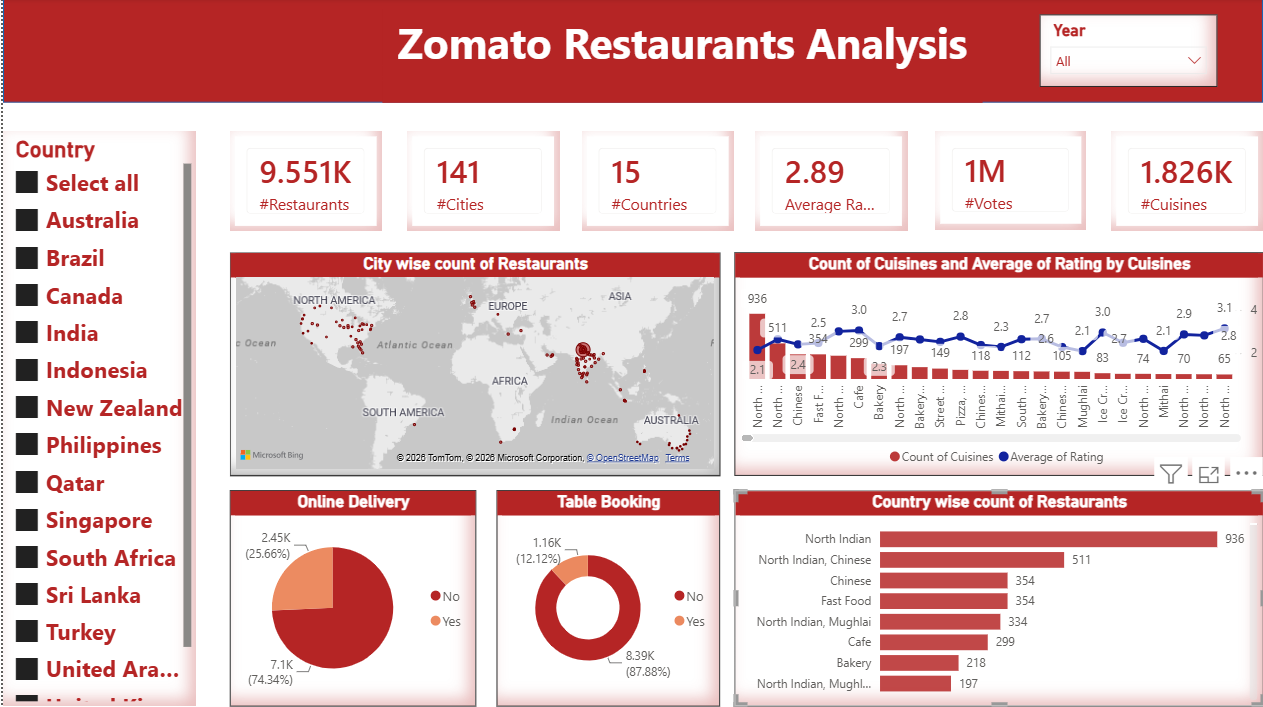

What the dashboard file says about the page in this screenshot:
{"tool":"powerbi","page":{"name":"Page 1","canvas":[1280,720],"ordinal":0},"visuals":[{"type":"shape","box":[0,0,1279.7,106.4],"z":0},{"type":"textbox","box":[385.2,11.3,609.2,95.1],"z":1000},{"type":"cardVisual","fields":{"Data":["Count(Restaurants.RestaurantID)"]},"box":[231.1,135.1,154.6,101.3],"z":2000},{"type":"cardVisual","fields":{"Data":["Count(Restaurants.City)"]},"box":[410.6,135.1,154.6,101.3],"z":3000},{"type":"cardVisual","fields":{"Data":["Count(Restaurants.CountryCode)"]},"box":[588.3,135.1,154.6,101.3],"z":4000},{"type":"cardVisual","fields":{"Data":["Avg(Restaurants.Rating)"]},"box":[764.3,135.1,154.6,101.3],"z":5000},{"type":"cardVisual","fields":{"Data":["Sum(Restaurants.Votes)"]},"box":[946.4,135.7,153.6,100],"z":6000},{"type":"cardVisual","fields":{"Data":["Count(Restaurants.Cuisines)"]},"box":[1125.1,135.1,154.6,101.3],"z":7000},{"type":"slicer","fields":{"Values":["Countries.country name"]},"box":[0,135.7,196.4,583.9],"z":8000},{"type":"lineStackedColumnComboChart","fields":{"Category":["Restaurants.Cuisines"],"Y":["CountNonNull(Restaurants.Cuisines)"],"Y2":["Avg(Restaurants.Rating)"]},"box":[742.9,258.9,537.5,226.8],"z":9000},{"type":"map","title":"City wise count of Restaurants","fields":{"Category":["Restaurants.City"],"Size":["CountNonNull(Restaurants.RestaurantID)"]},"box":[230.4,258.9,498.2,226.8],"z":10000},{"type":"clusteredBarChart","title":"Country wise count of Restaurants","fields":{"Category":["Restaurants.Cuisines"],"Y":["CountNonNull(Restaurants.RestaurantID)"]},"box":[742.9,500,537.5,219.6],"z":11000},{"type":"pieChart","title":"Online Delivery","fields":{"Category":["Restaurants.Has_Online_delivery"],"Y":["CountNonNull(Restaurants.RestaurantID)"]},"box":[230.4,500,250,219.6],"z":12000},{"type":"donutChart","title":"Table Booking","fields":{"Category":["Restaurants.Has_Table_booking"],"Y":["CountNonNull(Restaurants.RestaurantID)"]},"box":[501.8,500,226.8,219.6],"z":13000},{"type":"slicer","fields":{"Values":["Restaurants.Datekey_Opening.Variation.Date Hierarchy.Year"]},"box":[1053.6,16.1,180.4,73.2],"z":13001}]}

Visuals, with their boxes in screenshot pixels (x1, y1, x2, y2), scaled from the page's 1280x720 canvas onto the 1263x707 screenshot:
shape: BBox(0, 0, 1262, 104)
textbox: BBox(380, 11, 981, 104)
cardVisual - Count(Restaurants.RestaurantID): BBox(228, 133, 381, 232)
cardVisual - Count(Restaurants.City): BBox(405, 133, 558, 232)
cardVisual - Count(Restaurants.CountryCode): BBox(580, 133, 733, 232)
cardVisual - Avg(Restaurants.Rating): BBox(754, 133, 907, 232)
cardVisual - Sum(Restaurants.Votes): BBox(934, 133, 1085, 231)
cardVisual - Count(Restaurants.Cuisines): BBox(1110, 133, 1262, 232)
slicer - Countries.country name: BBox(0, 133, 194, 706)
lineStackedColumnComboChart - Restaurants.Cuisines x CountNonNull(Restaurants.Cuisines): BBox(733, 254, 1262, 477)
"City wise count of Restaurants" map: BBox(227, 254, 719, 477)
"Country wise count of Restaurants" clusteredBarChart: BBox(733, 491, 1262, 706)
"Online Delivery" pieChart: BBox(227, 491, 474, 706)
"Table Booking" donutChart: BBox(495, 491, 719, 706)
slicer - Restaurants.Datekey_Opening.Variation.Date Hierarchy.Year: BBox(1040, 16, 1218, 88)
